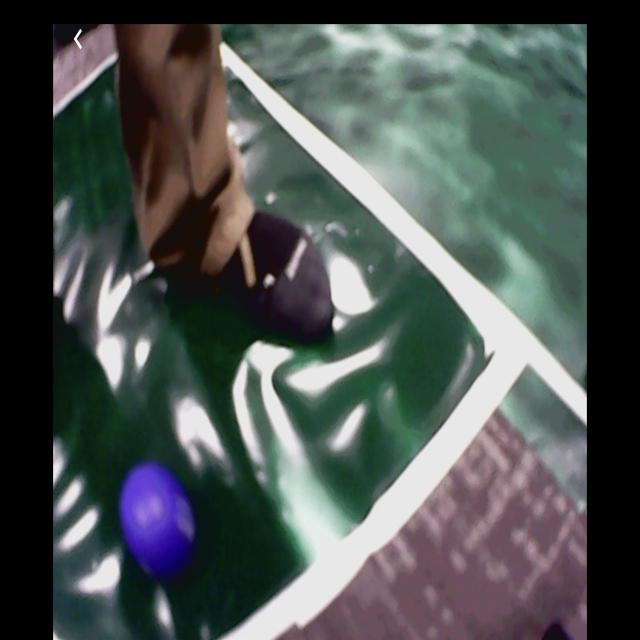ball: (123, 467, 195, 572)
